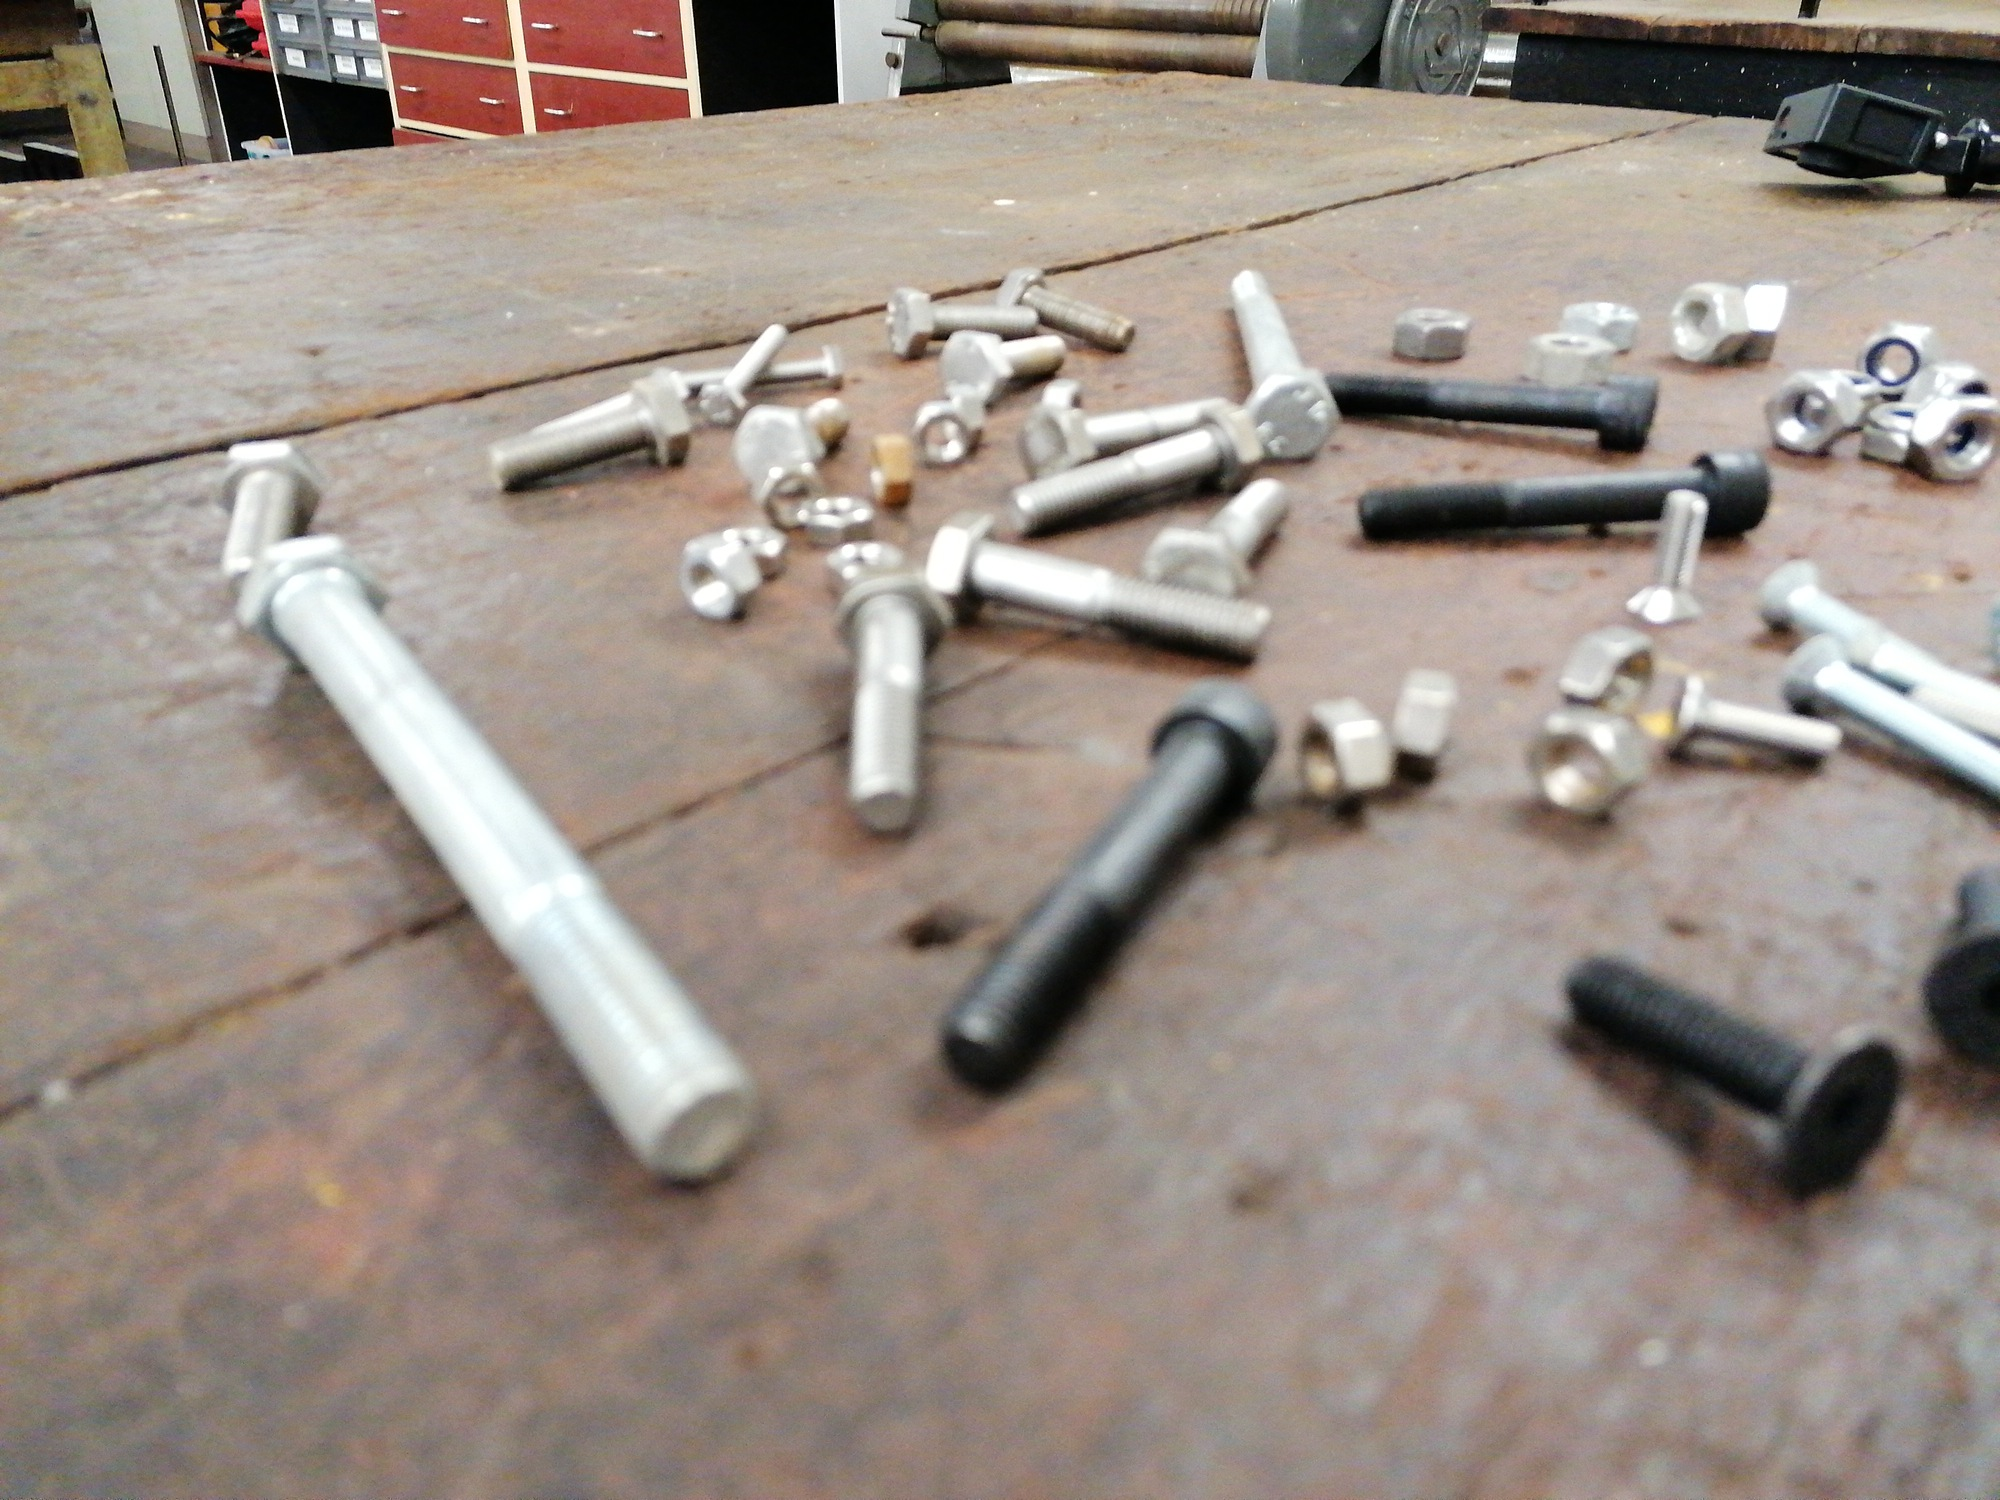bolt: (235, 533, 762, 1186), (939, 679, 1279, 1089), (1561, 949, 1899, 1197), (920, 509, 1272, 663), (1354, 447, 1770, 544), (1753, 559, 1998, 718), (1775, 632, 2000, 804), (1005, 399, 1261, 537), (827, 564, 954, 834), (1321, 370, 1663, 455), (483, 373, 691, 493), (1227, 266, 1342, 463), (1016, 395, 1230, 482), (1142, 476, 1290, 597), (211, 436, 321, 592), (1918, 863, 2000, 1071), (1665, 671, 1843, 764), (1622, 487, 1717, 622), (994, 265, 1139, 353), (728, 395, 850, 499), (529, 362, 685, 443), (882, 284, 1039, 359), (691, 320, 791, 429), (935, 328, 1065, 403), (672, 343, 846, 399)
nut: (1529, 709, 1650, 822), (1296, 695, 1392, 815), (1557, 622, 1657, 722), (1764, 369, 1863, 455), (1909, 391, 1998, 484), (1391, 666, 1457, 785), (676, 533, 762, 622), (1666, 280, 1750, 367), (1854, 317, 1934, 395), (1520, 329, 1617, 384), (750, 457, 824, 529), (822, 539, 906, 596), (1391, 304, 1472, 361), (795, 492, 877, 547), (1901, 359, 1992, 408), (1740, 277, 1791, 362), (1557, 299, 1639, 351), (1861, 399, 1923, 466), (910, 400, 970, 470), (720, 522, 791, 578), (868, 432, 913, 506), (939, 381, 984, 454), (1039, 377, 1083, 414)
